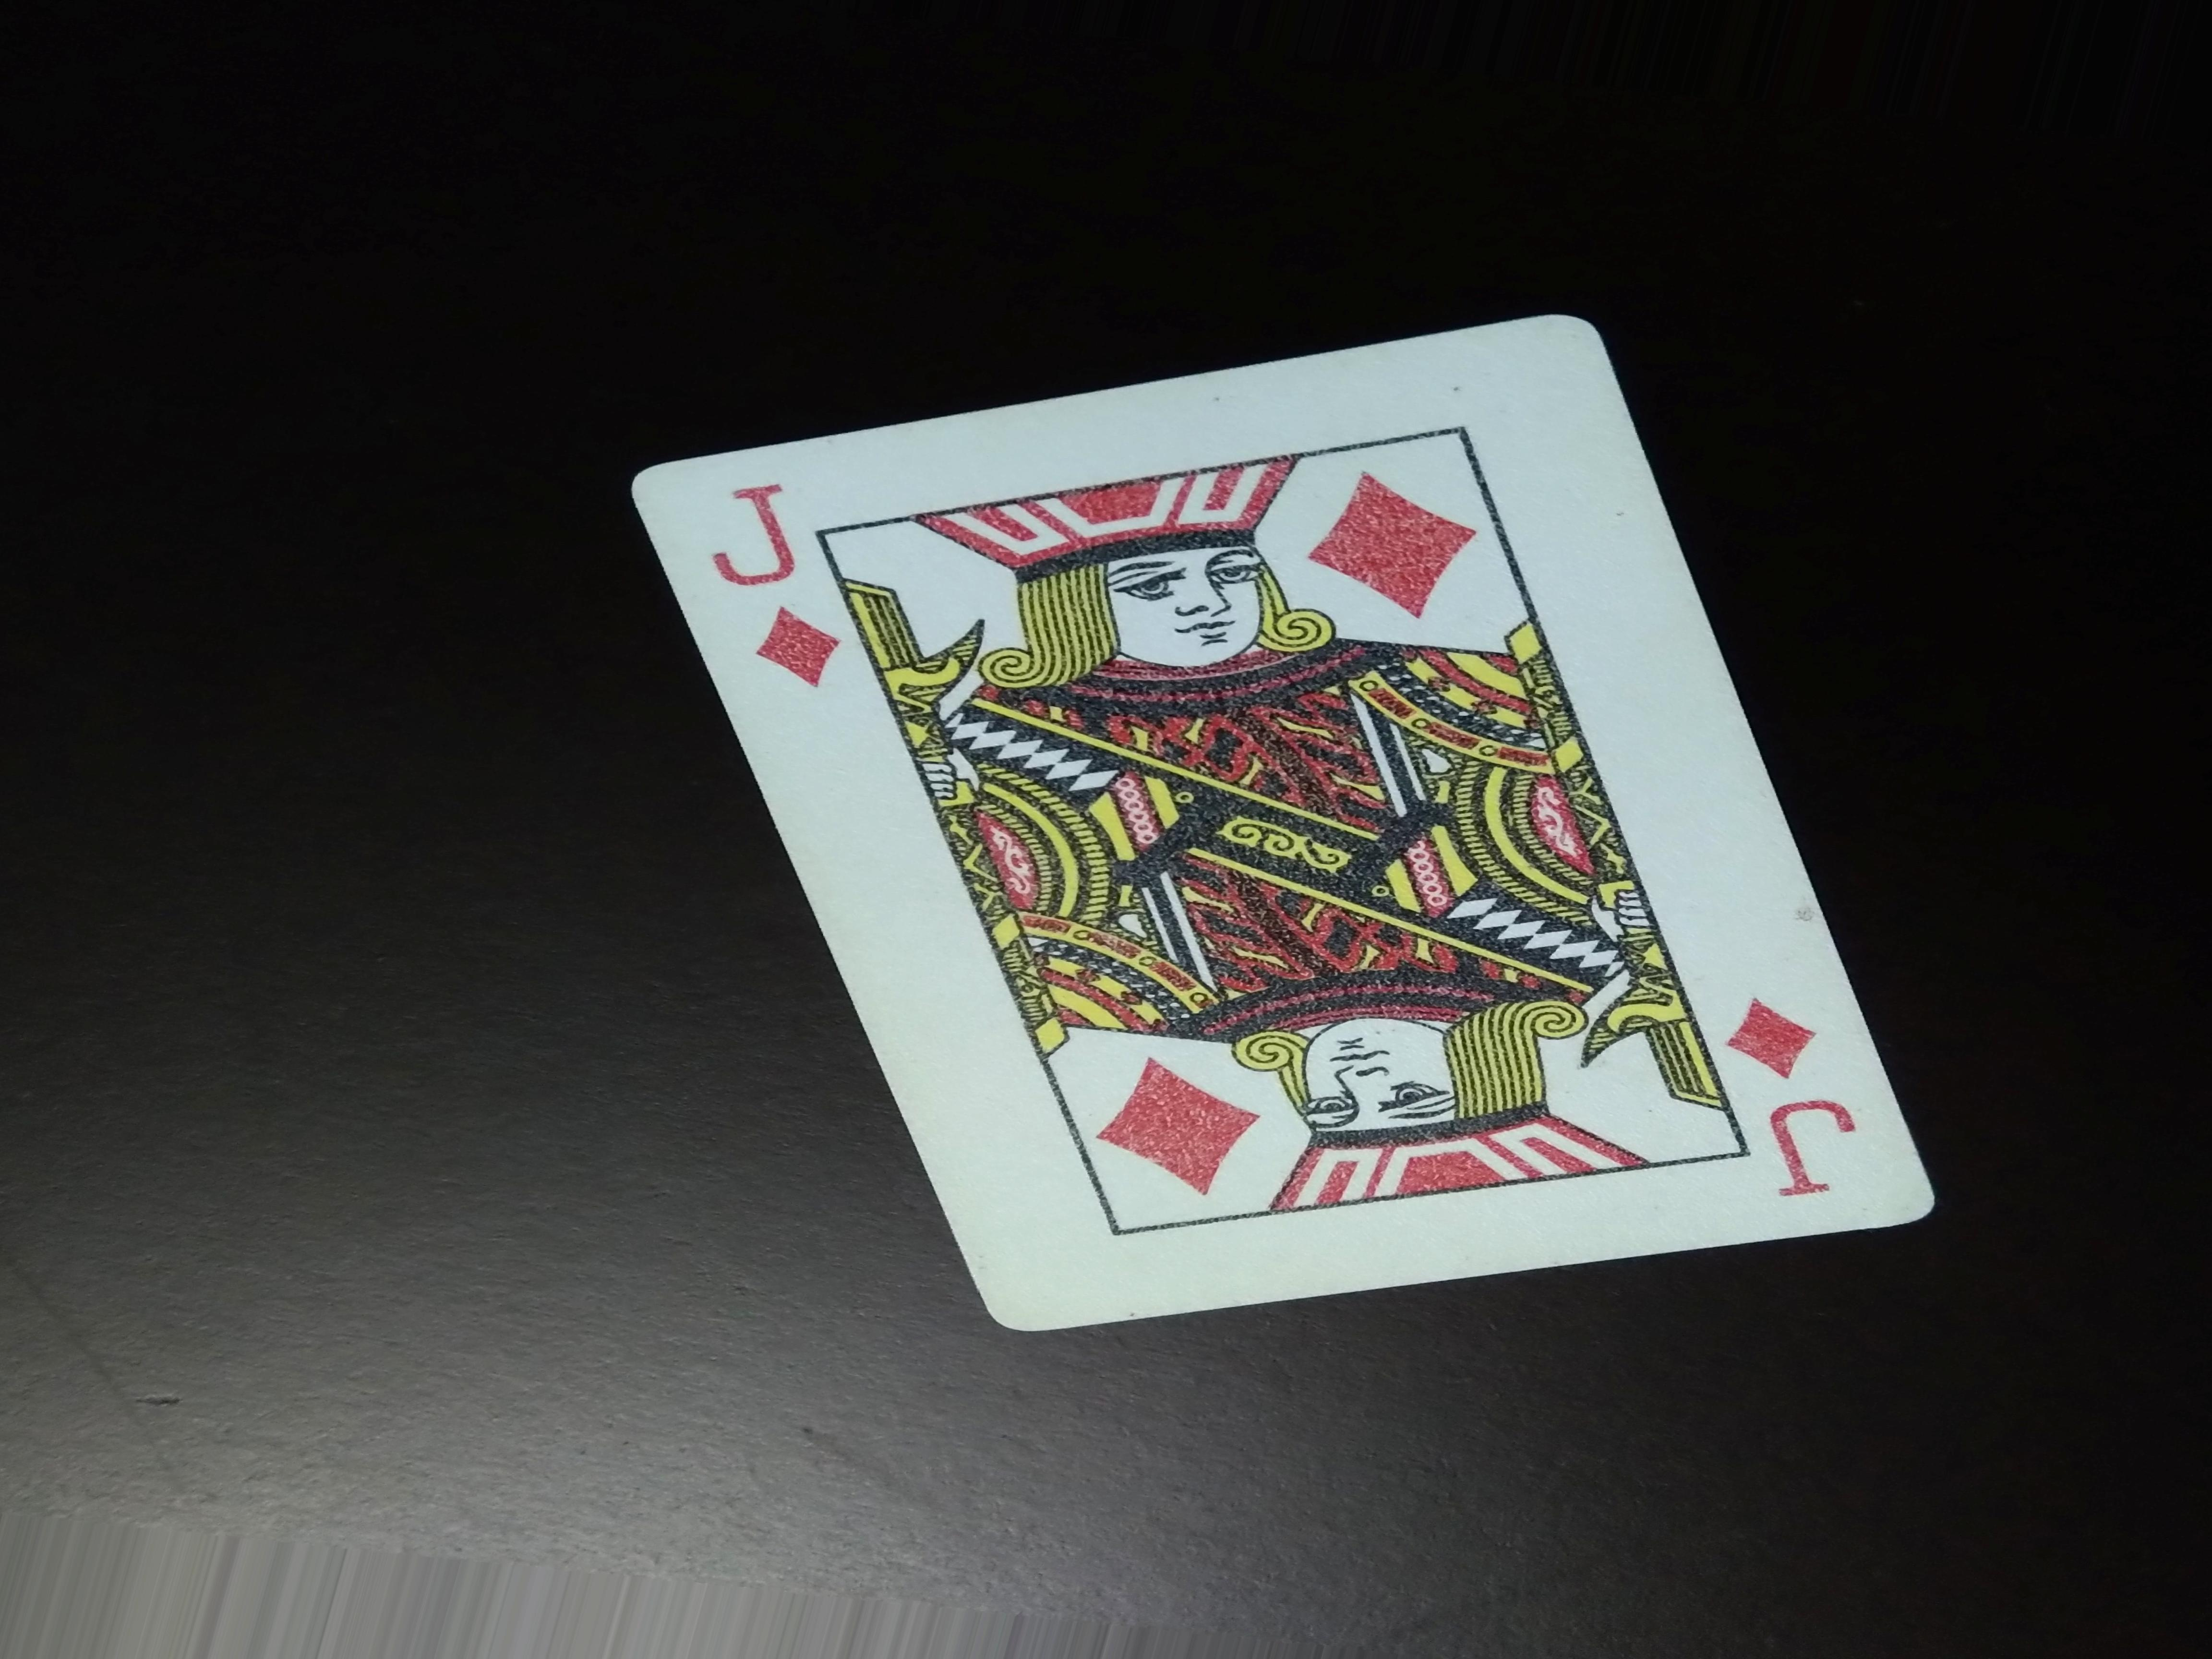JD: (1731, 988, 1857, 1209)
